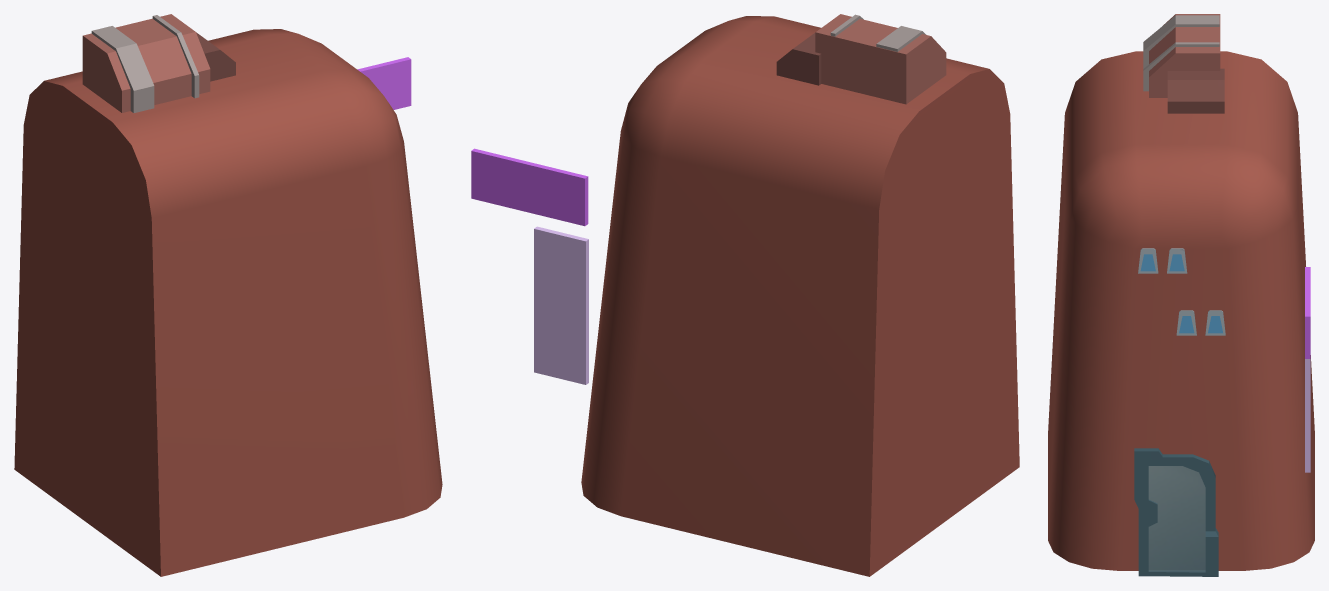
The model's file is West_House_08.fbx.
3 renders of one model, left to right at view 1: azimuth 30°, elevation 25°; view 2: azimuth 150°, elevation 25°; view 3: azimuth 270°, elevation 25°, orthographic. The views are drawn at different scales.
Visible parts, largest first — view 1: West_House_08; view 2: West_House_08; view 3: West_House_08.
Boxes of the visible parts, <box> form: West_House_08: <box>14,14,442,576</box>; West_House_08: <box>471,14,1019,576</box>; West_House_08: <box>1048,14,1314,576</box>.
Bounding box in the file's own units: 22.93 × 26.44 × 14.87.
2 materials, 2 textured.
